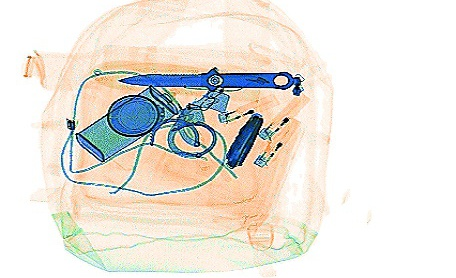handcuffs: (148, 88, 230, 159)
knife: (116, 63, 301, 92), (224, 111, 263, 169)
lighter: (255, 90, 311, 141), (251, 115, 300, 168), (216, 91, 280, 124)
zippooil: (74, 84, 179, 162)
